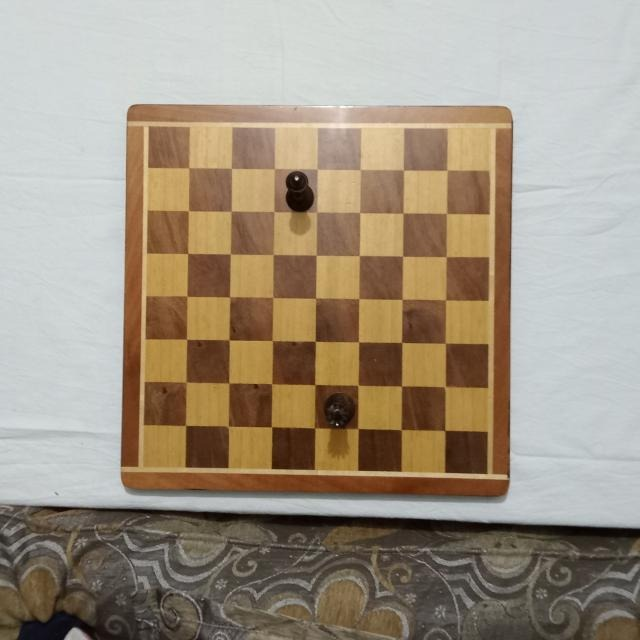black-king: (283, 170, 316, 213)
black-queen: (323, 391, 357, 429)
